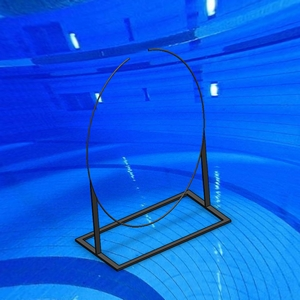circle: (74, 47, 233, 272)
